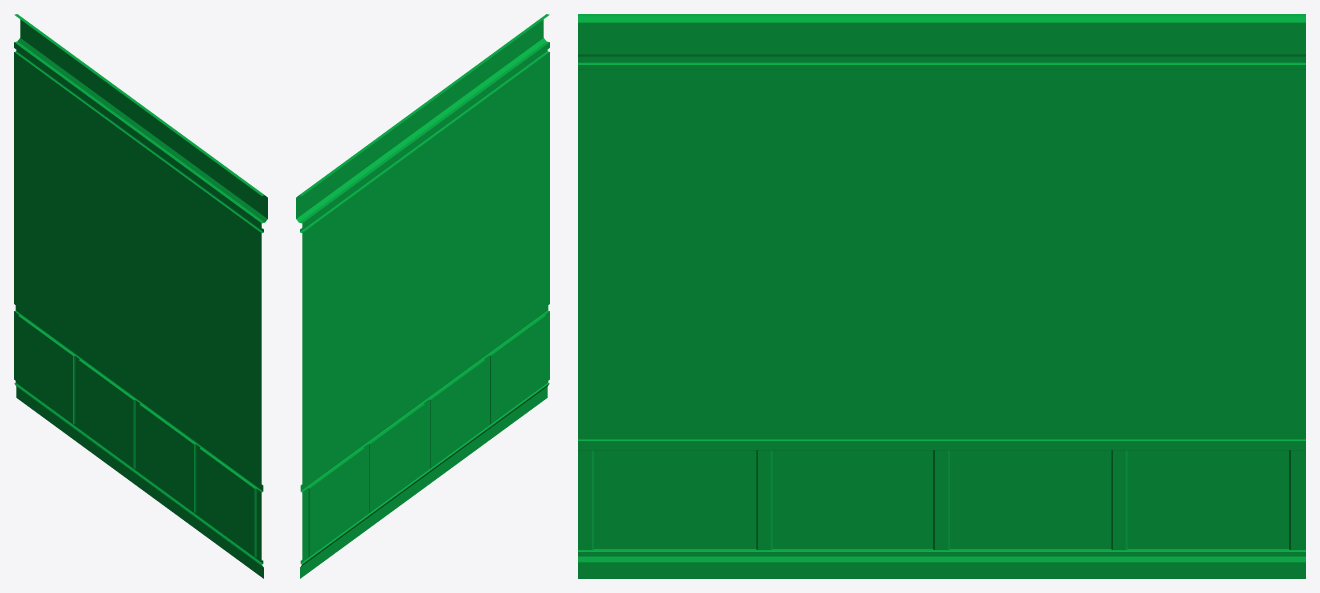
Rendered from TempA_ShortWall_01_Low.fbx.
3 renders of one model, left to right at view 1: azimuth 30°, elevation 25°; view 2: azimuth 150°, elevation 25°; view 3: azimuth 270°, elevation 25°, orthographic. The views are drawn at different scales.
Parts seen in each view (by area): view 1: TempA_ShortWall_01_Low; view 2: TempA_ShortWall_01_Low; view 3: TempA_ShortWall_01_Low.
Boxes of the visible parts, box(x1,y1,x2,y2) form: TempA_ShortWall_01_Low: box(14, 14, 267, 578); TempA_ShortWall_01_Low: box(296, 14, 549, 578); TempA_ShortWall_01_Low: box(578, 14, 1305, 578).
Bounding box in the file's own units: 0.0901 × 4.27 × 5.
